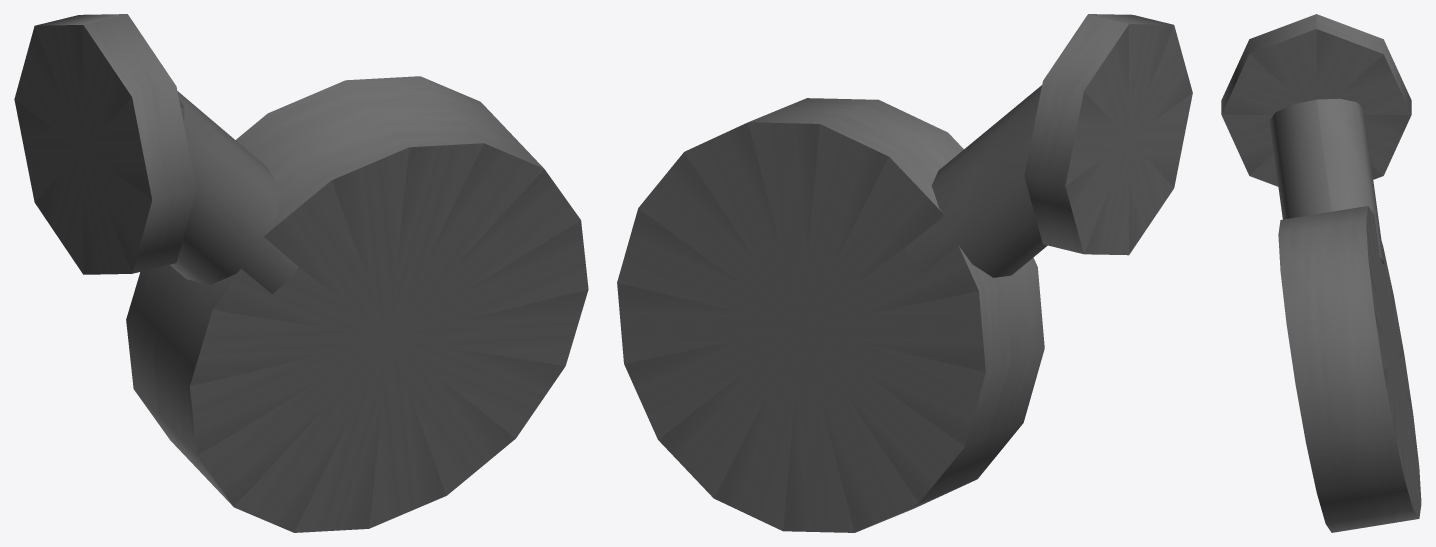
Rendered from mastarmcurve_10x2_c7_west.obj.
3 views of the same model, side by side, from view 1: azimuth 30°, elevation 25°; view 2: azimuth 150°, elevation 25°; view 3: azimuth 270°, elevation 25° (orthographic). The views are drawn at different scales.
Parts seen in each view (by area): view 1: mastarm_10x2_c7_west; view 2: mastarm_10x2_c7_west; view 3: mastarm_10x2_c7_west.
Boxes of the visible parts, x1,y1,x2,y2 form: mastarm_10x2_c7_west: (14,14,588,532); mastarm_10x2_c7_west: (617,14,1192,532); mastarm_10x2_c7_west: (1221,14,1421,532).
Bounding box in the file's own units: 0.8333 × 0.9376 × 0.4209.
